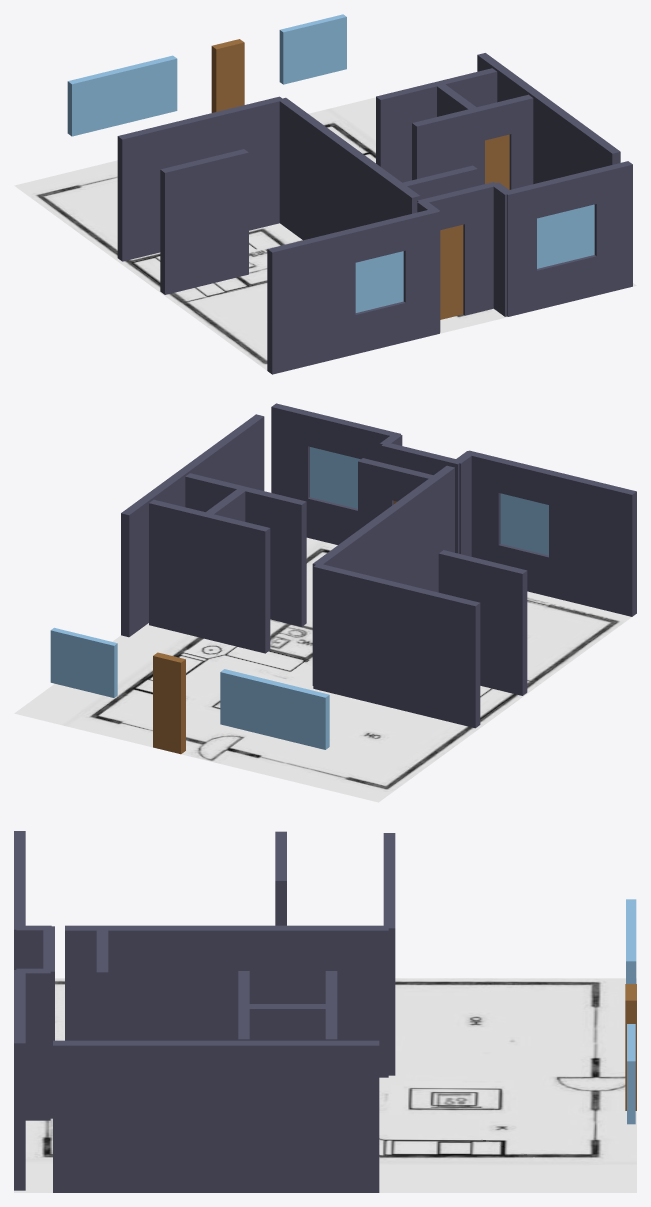
Rendered from sample3.obj.
The picture shows the model from 3 angles, top to bottom: view 1: azimuth 30°, elevation 25°; view 2: azimuth 150°, elevation 25°; view 3: azimuth 270°, elevation 25°; orthographic projection. The views are drawn at different scales.
Visible parts, largest first — view 1: wall, FloorPlan, Window, Door, door; view 2: wall, FloorPlan, Window, door; view 3: wall, FloorPlan, Window, door.
Boxes of the visible parts, x1,y1,x2,y2 form: wall: (117, 53, 632, 374); FloorPlan: (14, 97, 636, 370); Window: (67, 14, 594, 312); Door: (440, 134, 509, 319); door: (211, 39, 244, 112); wall: (121, 403, 636, 728); FloorPlan: (14, 537, 631, 802); Window: (50, 447, 548, 749); door: (153, 652, 185, 754); wall: (14, 831, 395, 1192); FloorPlan: (14, 978, 636, 1192); Window: (626, 899, 636, 1124); door: (625, 984, 636, 1110).
Bounding box in the file's own units: 8.76 × 2.8 × 10.74.
Materials: 5 (1 with a texture image).
